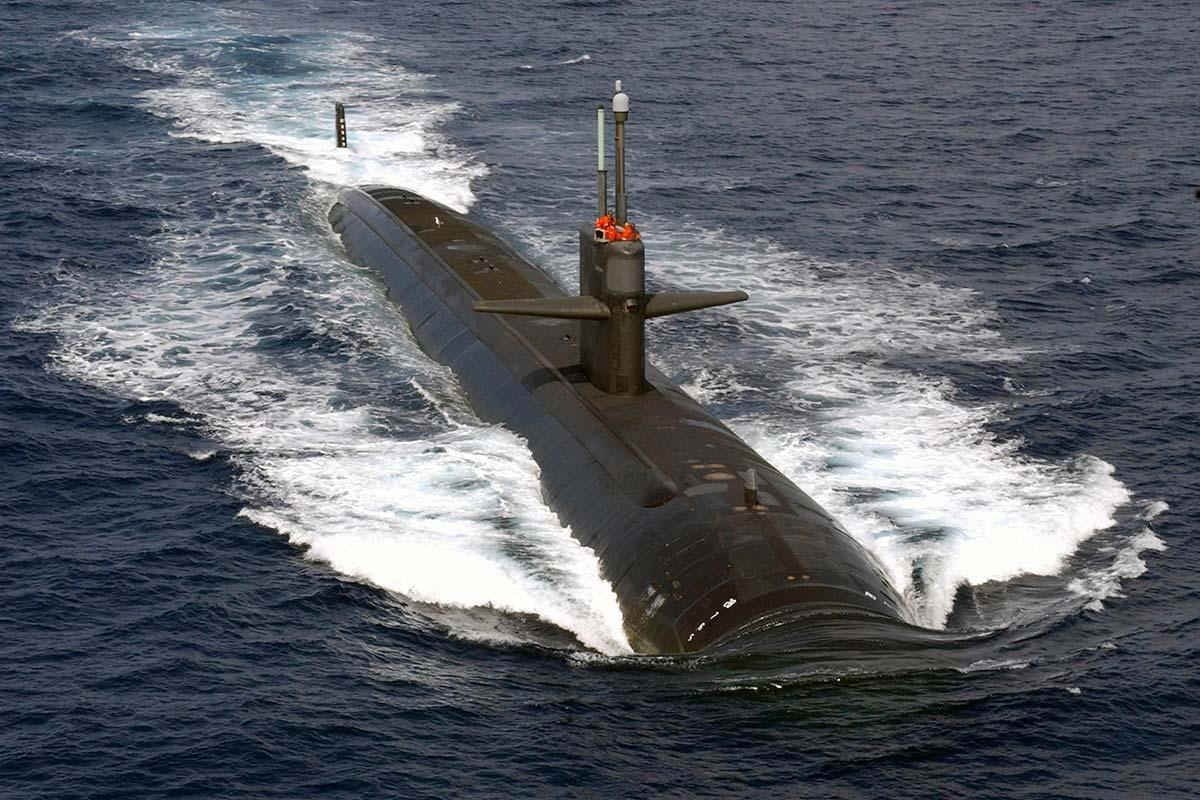Submarine: (208, 0, 1082, 768)
